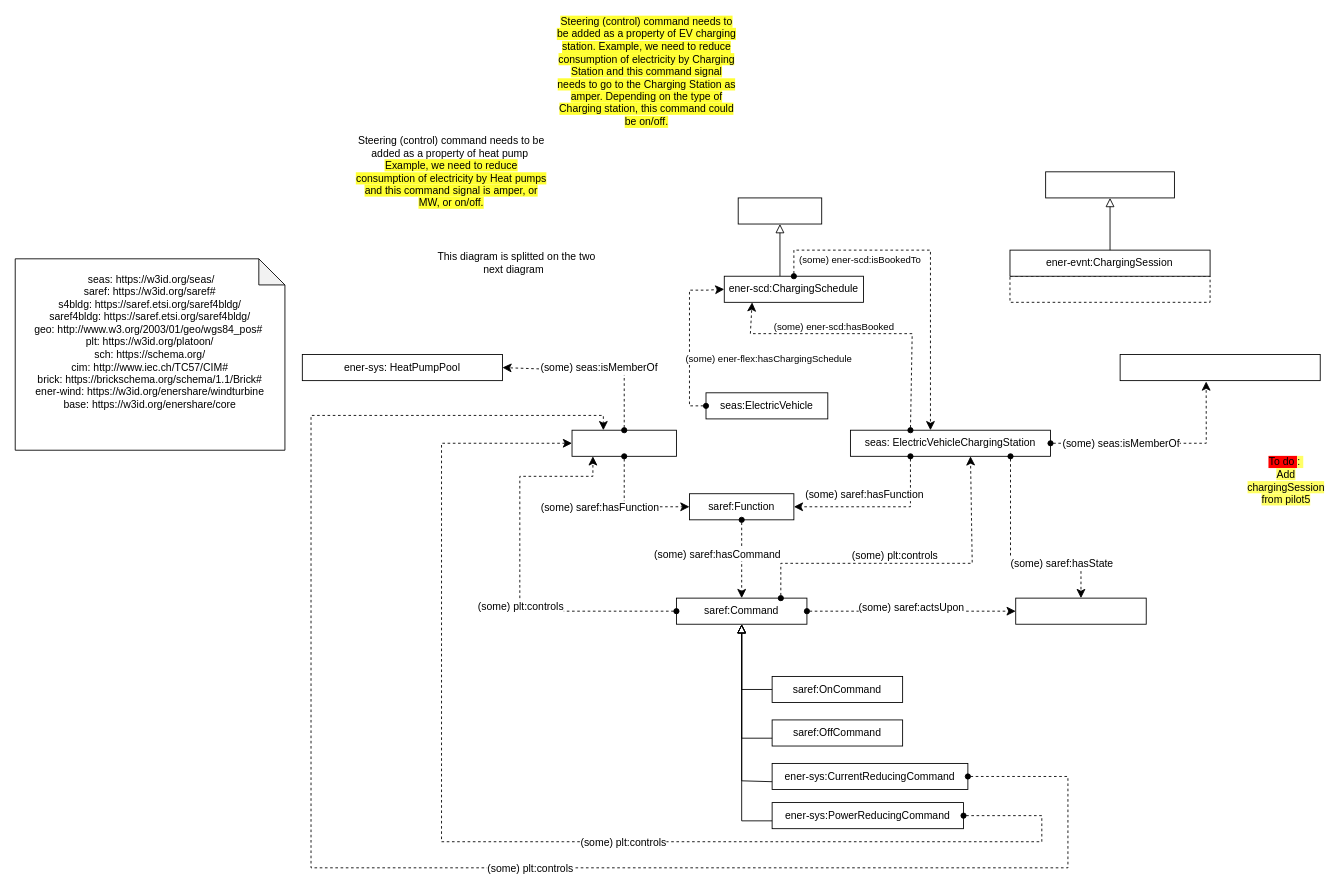
The diagram is 1340 pixels wide and 892 high, and some of its shapes have lost their labels. Here are the shapes that lost their labels. From the top down, the centre of each, then its label:
(x=1109, y=184): pep:ProcedureExecution
(x=779, y=210): sch:Schedule
(x=1109, y=288): (some) sch:identifier
(x=1219, y=367): seas: ElectricVehicleChargingStationPool
(x=623, y=442): plt:HeatPump
(x=1080, y=610): saref:State
